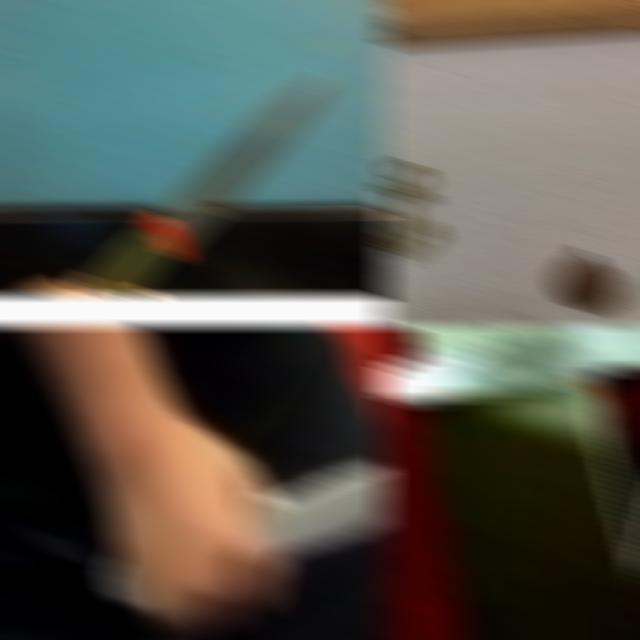Knife: (84, 76, 333, 296), (244, 462, 390, 568)
Knife_Handle: (92, 436, 390, 622), (378, 324, 640, 403)
